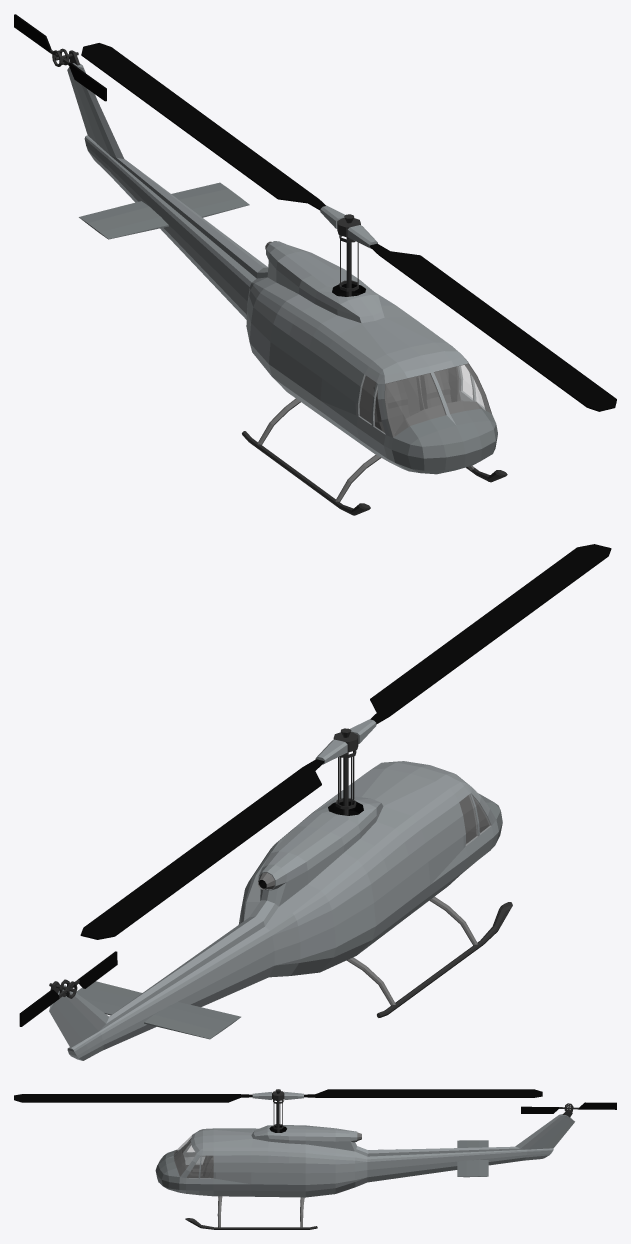
3 renders of one model, top to bottom at view 1: azimuth 30°, elevation 25°; view 2: azimuth 150°, elevation 25°; view 3: azimuth 270°, elevation 25°, orthographic. The views are drawn at different scales.
Visible parts, largest first — view 1: Circle, Circle.008, Circle.001, Circle.004, Circle.009; view 2: Circle, Circle.008, Circle.004, Circle.009; view 3: Circle, Circle.008, Circle.002, Circle.009, Circle.001, Circle.004.
Part boxes in pixels (left/top/right/bottom): Circle: left=67, top=50, right=507, bottom=515; Circle.008: left=81, top=43, right=616, bottom=411; Circle.001: left=384, top=364, right=490, bottom=437; Circle.004: left=354, top=370, right=390, bottom=459; Circle.009: left=14, top=14, right=106, bottom=101; Circle: left=49, top=761, right=512, bottom=1060; Circle.008: left=80, top=544, right=611, bottom=939; Circle.004: left=457, top=788, right=496, bottom=871; Circle.009: left=19, top=951, right=117, bottom=1026; Circle: left=155, top=1109, right=574, bottom=1229; Circle.008: left=14, top=1089, right=542, bottom=1132; Circle.002: left=182, top=1153, right=215, bottom=1190; Circle.009: left=521, top=1102, right=616, bottom=1113; Circle.001: left=174, top=1135, right=195, bottom=1176; Circle.004: left=183, top=1143, right=205, bottom=1164.
Size of the model in its own units: 240 by 364 by 1630.
